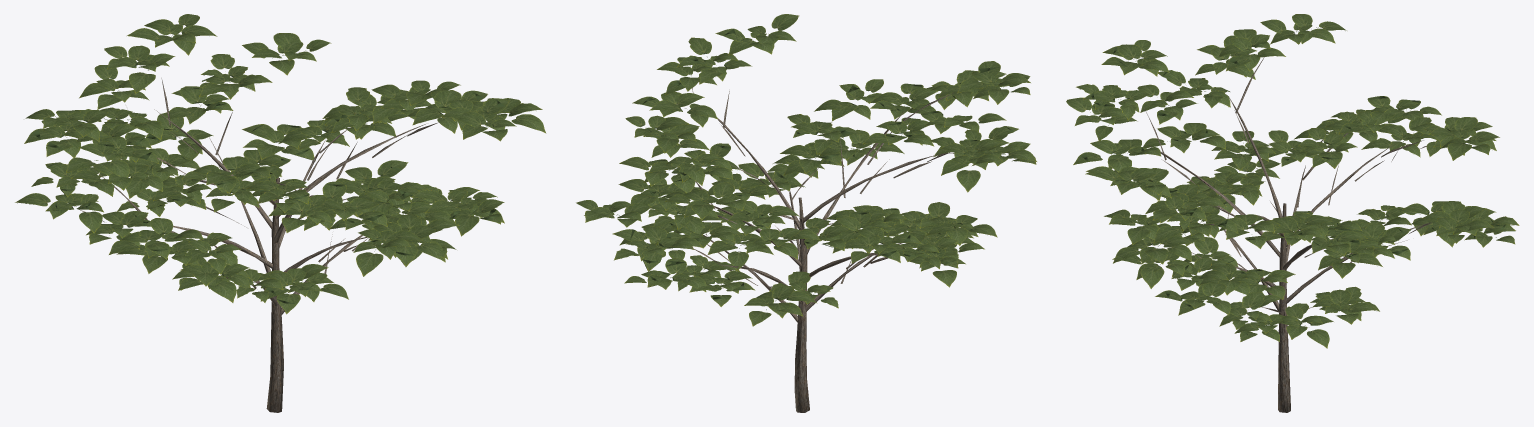
File: broussonetia-4.glb
3 views of the same model, side by side, from view 1: azimuth 30°, elevation 25°; view 2: azimuth 150°, elevation 25°; view 3: azimuth 270°, elevation 25° (orthographic). The views are drawn at different scales.
Visible parts, largest first — view 1: leaf, bark, leaf-edge; view 2: leaf, bark, leaf-edge; view 3: leaf, bark, leaf-edge.
Boxes of the visible parts, <box> form: leaf: <box>15,14,546,313</box>; bark: <box>79,78,439,412</box>; leaf-edge: <box>17,25,528,311</box>; leaf: <box>576,14,1036,326</box>; bark: <box>690,88,954,412</box>; leaf-edge: <box>609,29,1028,306</box>; leaf: <box>1066,14,1519,348</box>; bark: <box>1144,57,1431,412</box>; leaf-edge: <box>1080,32,1515,341</box>.
Size of what is drawn, in the model's own units: 3.18 by 2.35 by 3.21.
5 materials, 4 textured.
